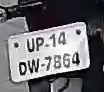1: (48, 30, 57, 49)
4: (56, 30, 69, 48), (69, 50, 80, 66)
6: (61, 51, 72, 69)
7: (43, 56, 54, 71)
8: (52, 55, 64, 70)
D: (18, 61, 27, 76)
P: (34, 37, 44, 54)
U: (26, 38, 36, 54)
W: (27, 56, 40, 74)
